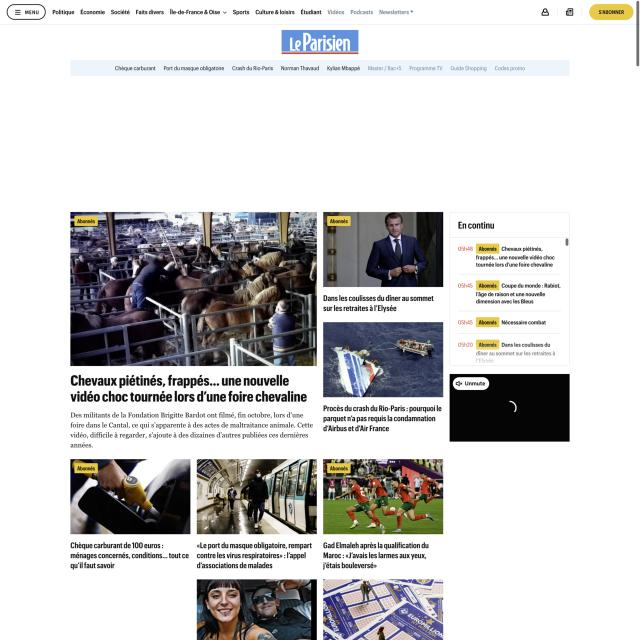logo: (280, 28, 360, 56)
navigation: (69, 60, 572, 76), (50, 6, 417, 18), (12, 9, 40, 16)
